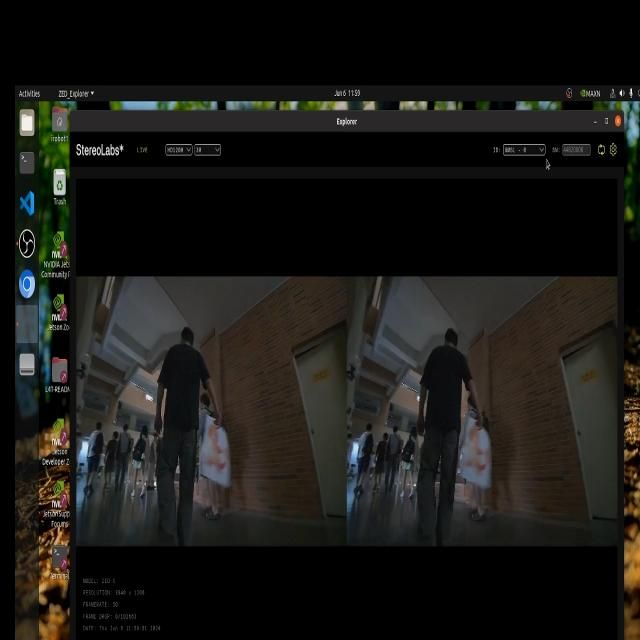red: (207, 424, 233, 492), (466, 422, 490, 472)
